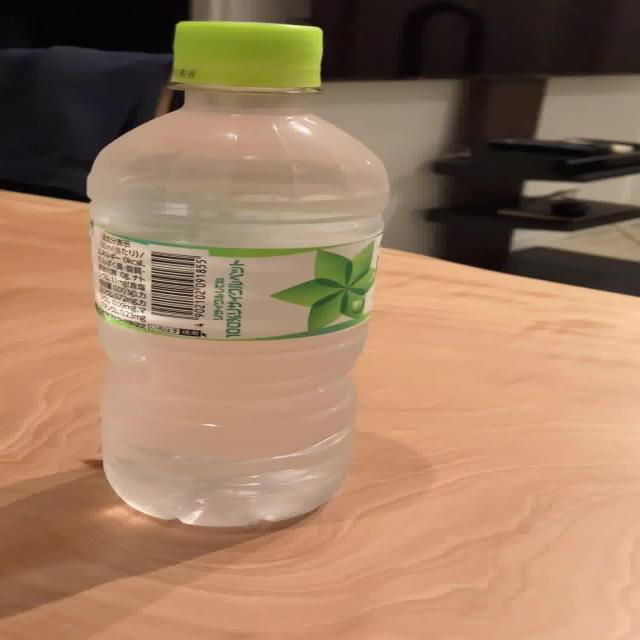chai: (88, 22, 389, 526)
